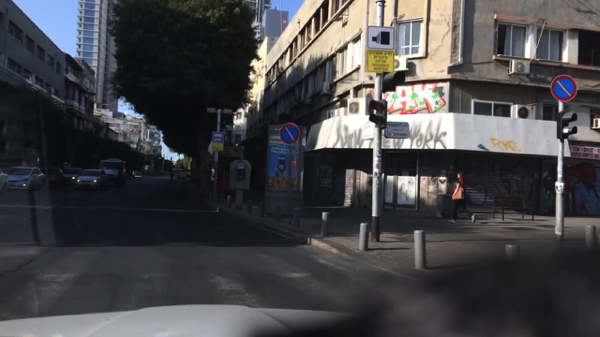car: (7, 167, 46, 192), (100, 158, 127, 187), (75, 169, 110, 191), (44, 168, 66, 188), (64, 168, 82, 186), (0, 169, 10, 194), (177, 169, 187, 181)
person: (446, 169, 476, 225), (169, 170, 175, 184)
traffic light: (556, 110, 577, 142), (368, 99, 387, 131), (383, 70, 404, 94), (159, 154, 162, 160), (178, 153, 181, 158)
traffic sign: (550, 74, 578, 103), (366, 48, 394, 73), (367, 26, 396, 48), (279, 123, 301, 145), (385, 122, 411, 138), (212, 131, 225, 153)
